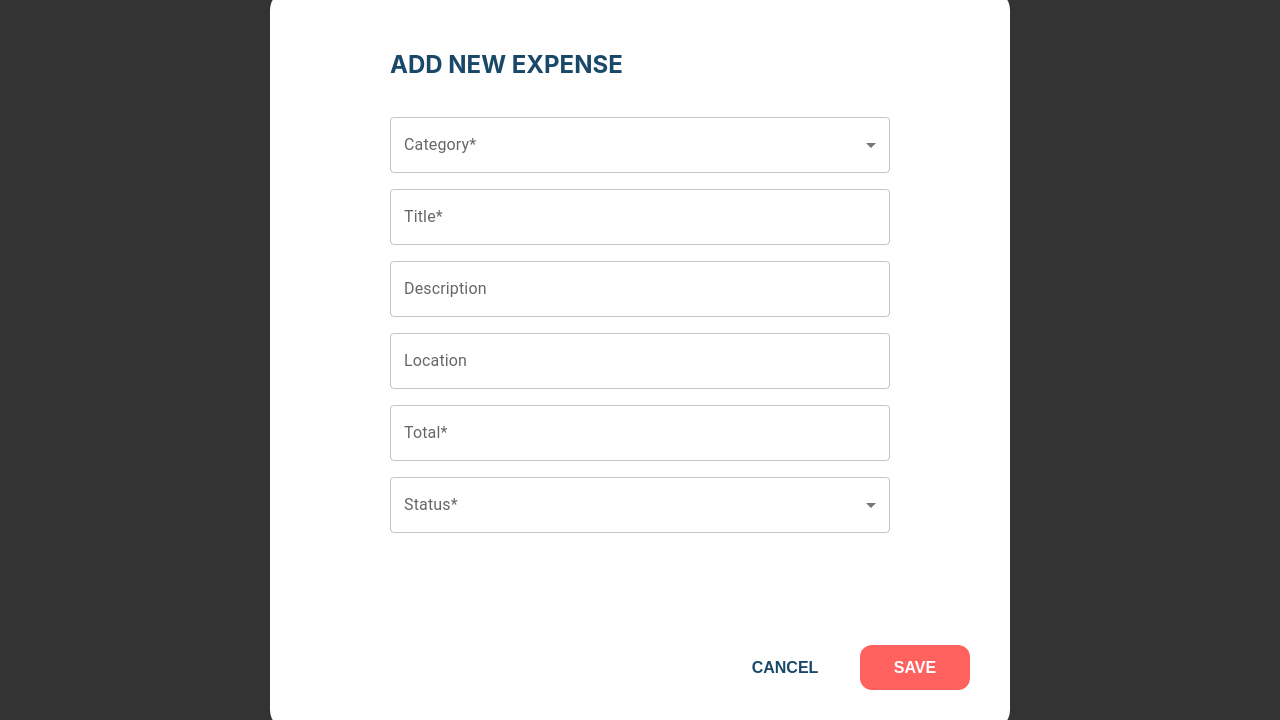
AddExpenseModal › typing expense information into the modal › shows the correct error if value is not valid
This screenshot has width=1280, height=720.
Type "seddoeiusmodtemporinc" into the field labelled "Title*" at {"x": 640, "y": 217}, box [390,189,890,245]
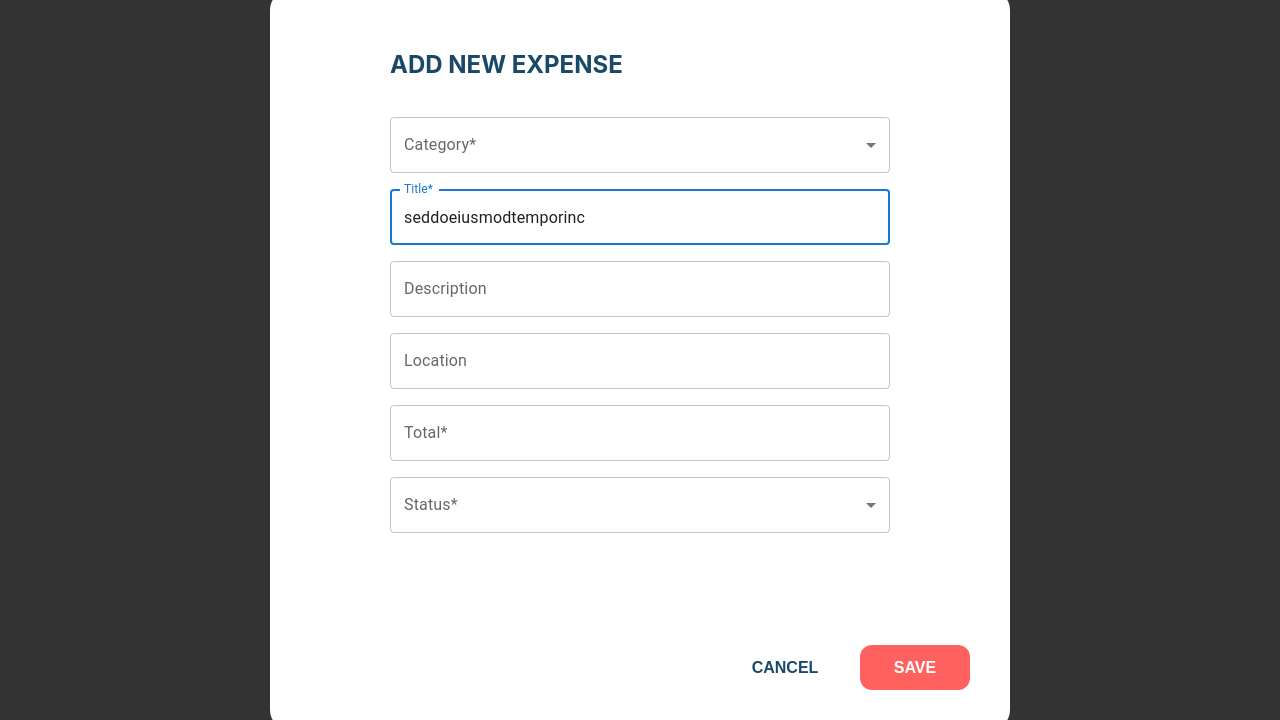
Type "seddoeiusmodtemporincididuntutlaboreetdoloremagnaaliqualiqua." into the field labelled "Description" at {"x": 640, "y": 289}, box [390,261,890,317]
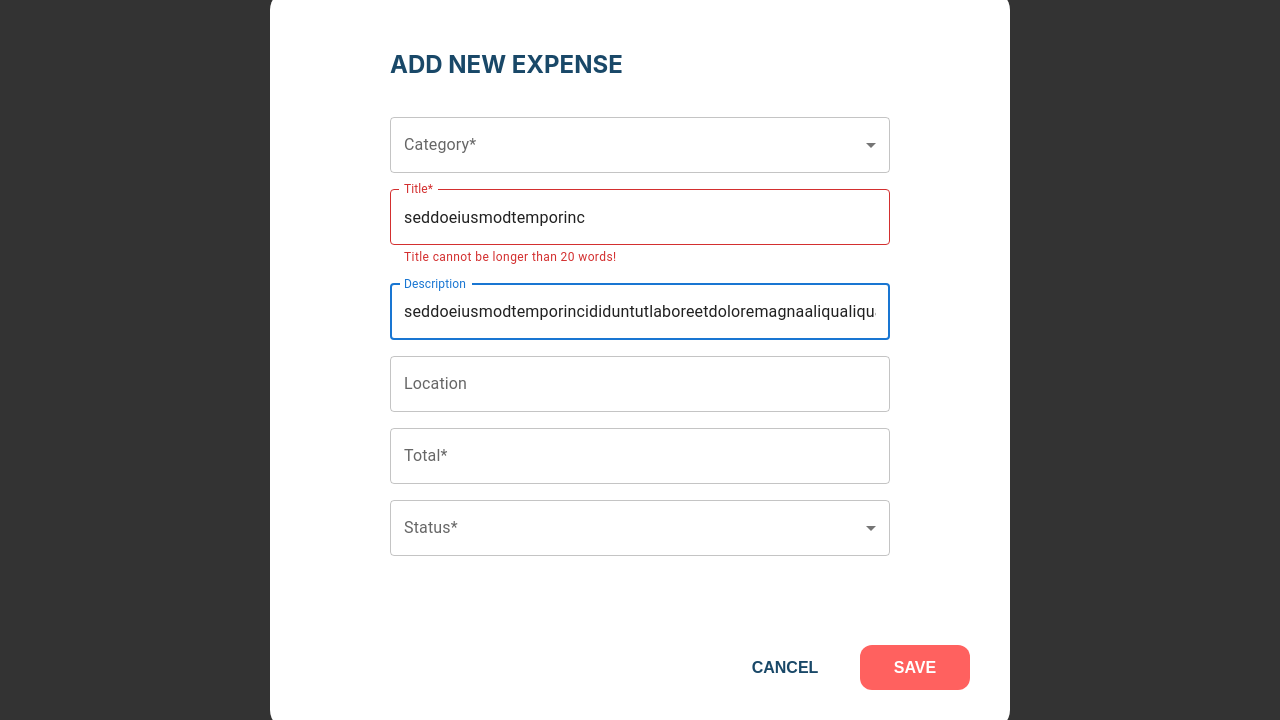
Type "seddoeiusmodtemporinc" into the field labelled "Location" at {"x": 640, "y": 384}, box [390,356,890,412]
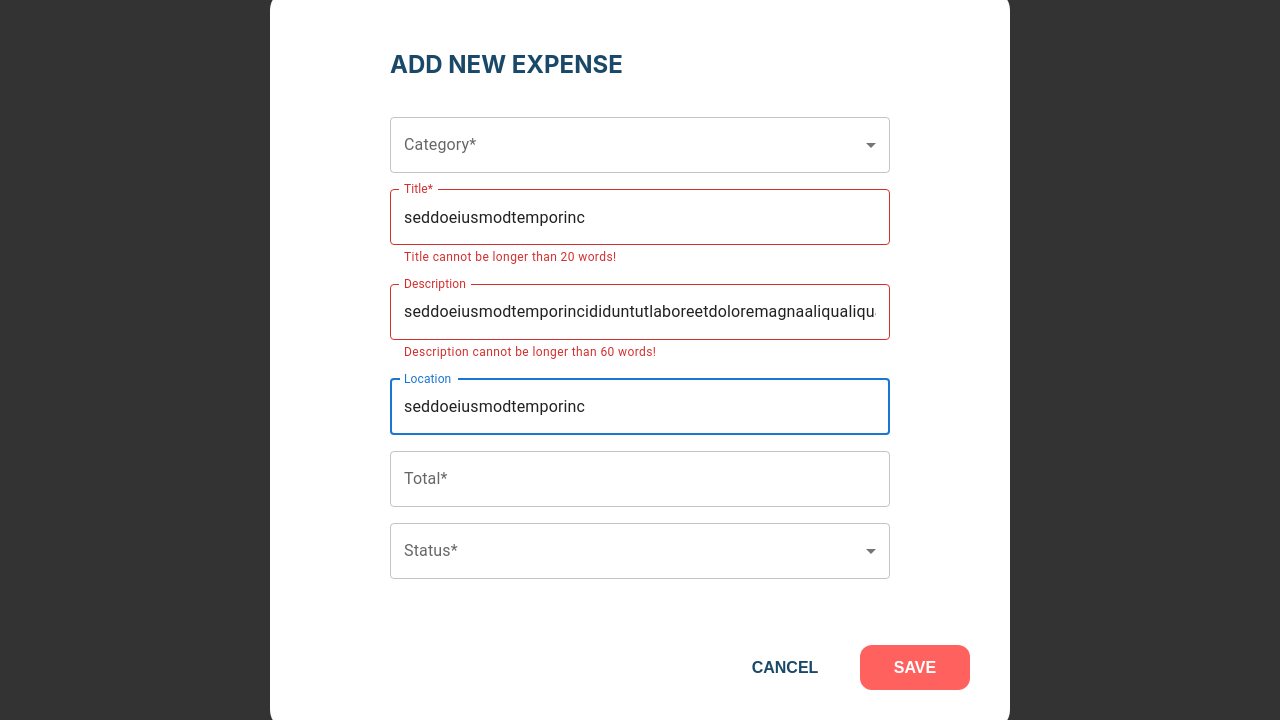
Click the number field labelled "Total*" at {"x": 640, "y": 479}, box [390,451,890,507]
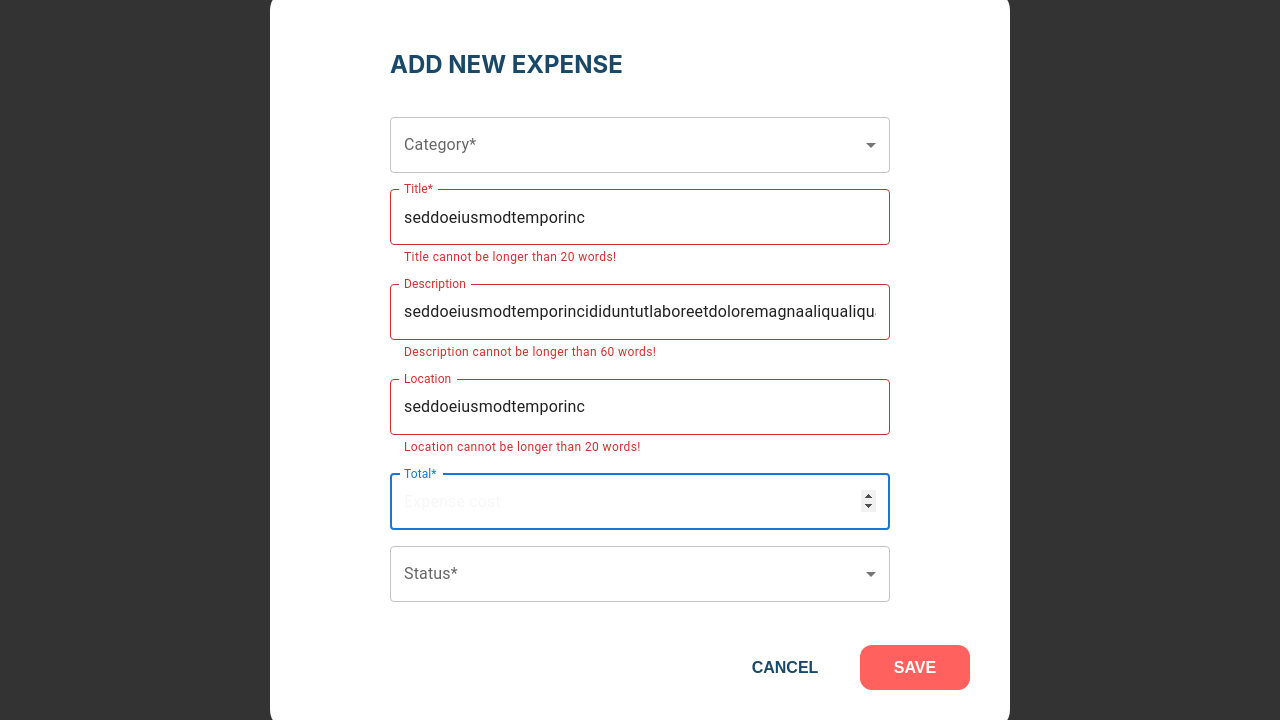
Result: the text "Title cannot be longer than 20 words!" is shown at [404,250,616,264]
Result: the text "Description cannot be longer than 60 words!" is shown at [404,345,656,359]
Result: the text "Location cannot be longer than 20 words!" is shown at [404,440,641,454]
